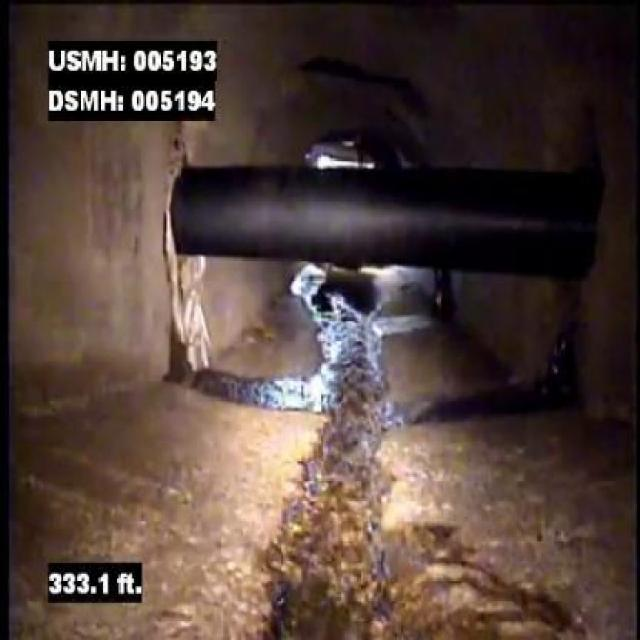Utility intrusion: (157, 156, 620, 290)
